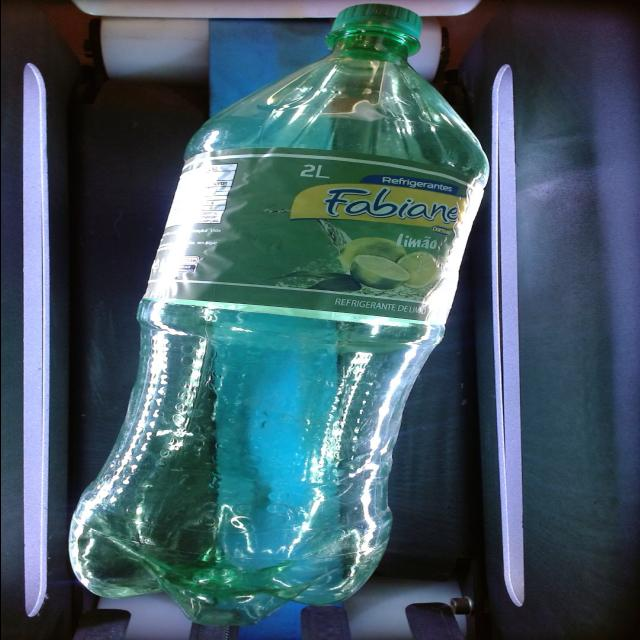bottle: (69, 5, 486, 625)
